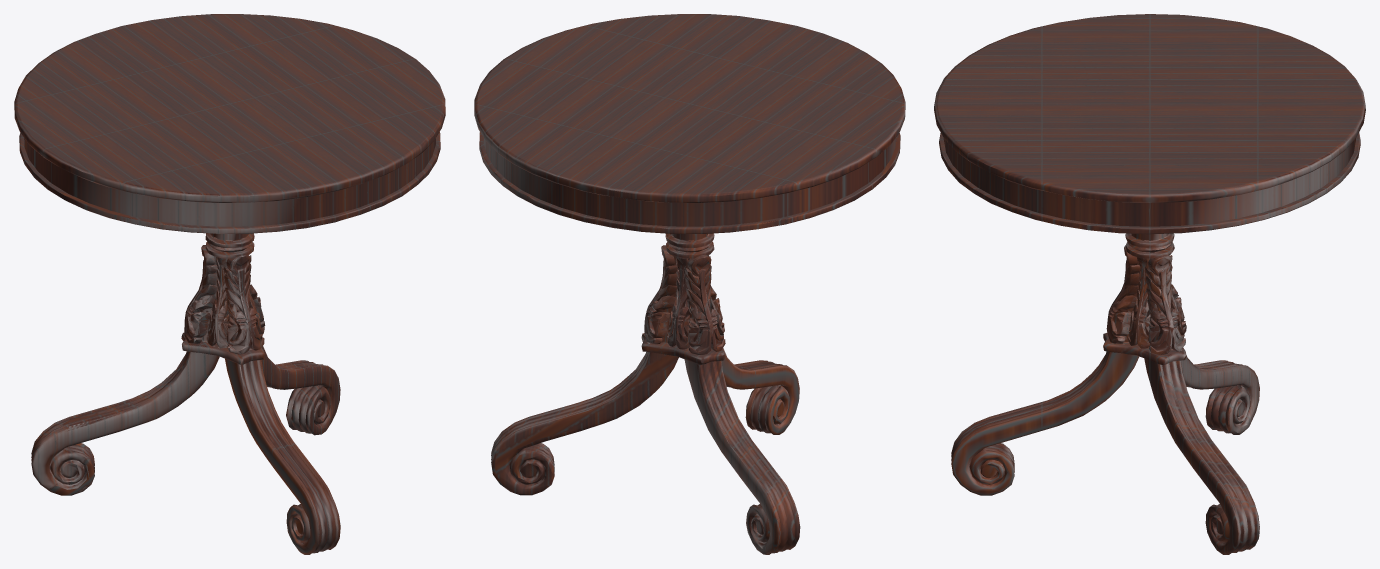
3 renders of one model, left to right at view 1: azimuth 30°, elevation 25°; view 2: azimuth 150°, elevation 25°; view 3: azimuth 270°, elevation 25°, orthographic.
Parts seen in each view (by area): view 1: solid_001; view 2: solid_001; view 3: solid_001.
Part boxes in pixels (<box>): solid_001: <box>14,14,445,554</box>; solid_001: <box>474,14,905,554</box>; solid_001: <box>934,14,1365,554</box>.
Size of the model in its own units: 1.34 by 1.33 by 1.35.
